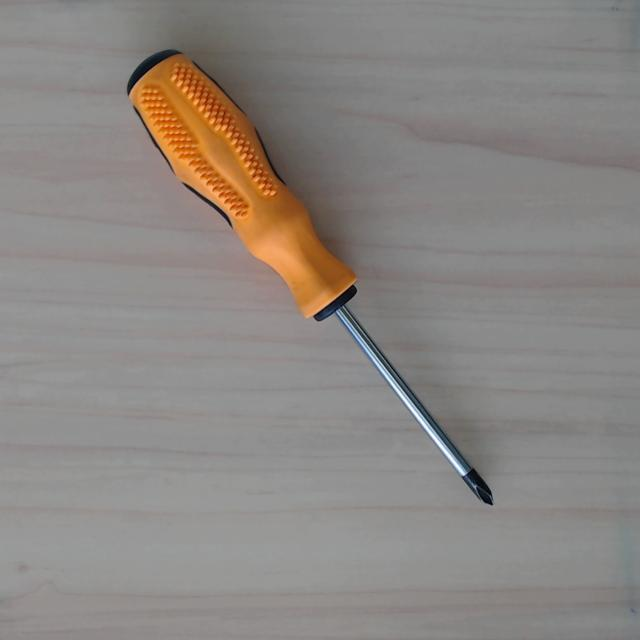Obeng-Besar: (109, 32, 525, 535)
